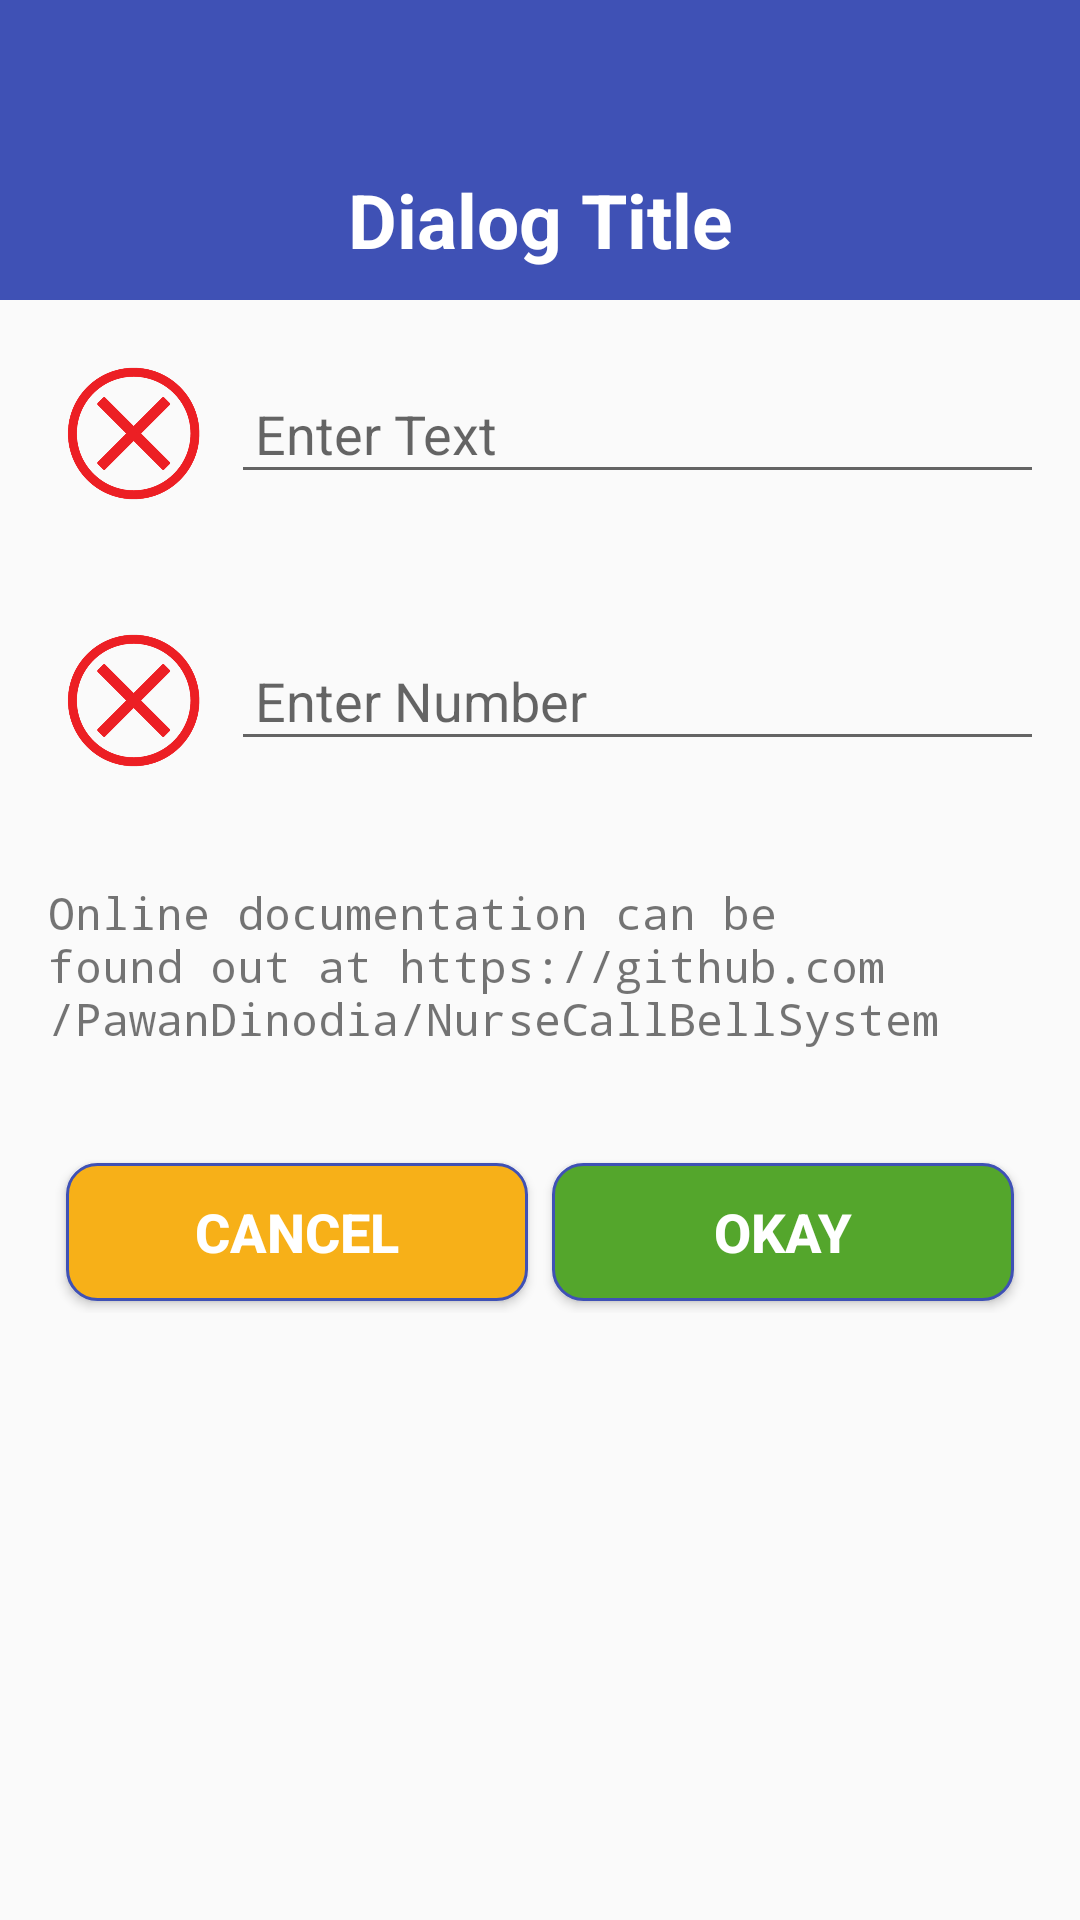

Named icons in this screenshot (1080px×1920px) and their bounding boxes, (x1, y1, x2, y2):
wrong: (68, 368, 200, 499), (68, 635, 200, 766)
